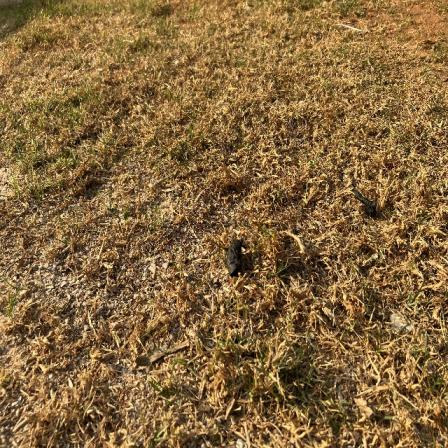dog-poop: (218, 238, 247, 276)
